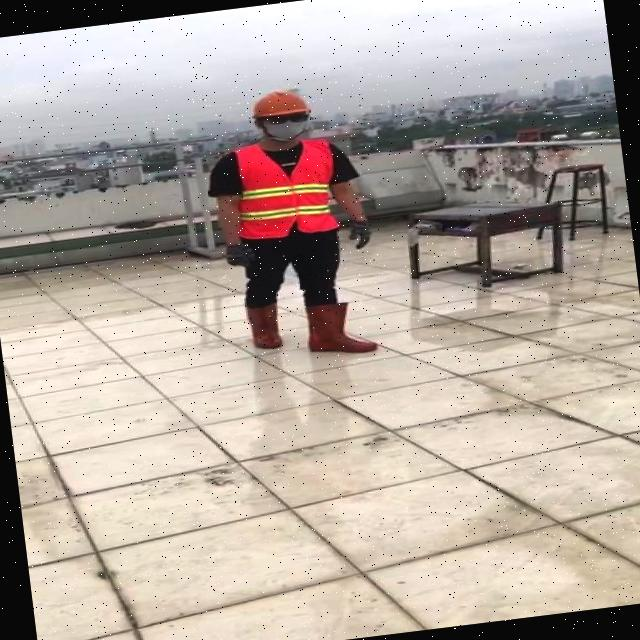boots: (300, 295, 381, 357), (244, 302, 284, 350)
helmet: (242, 82, 314, 120)
vest: (232, 135, 345, 241)
